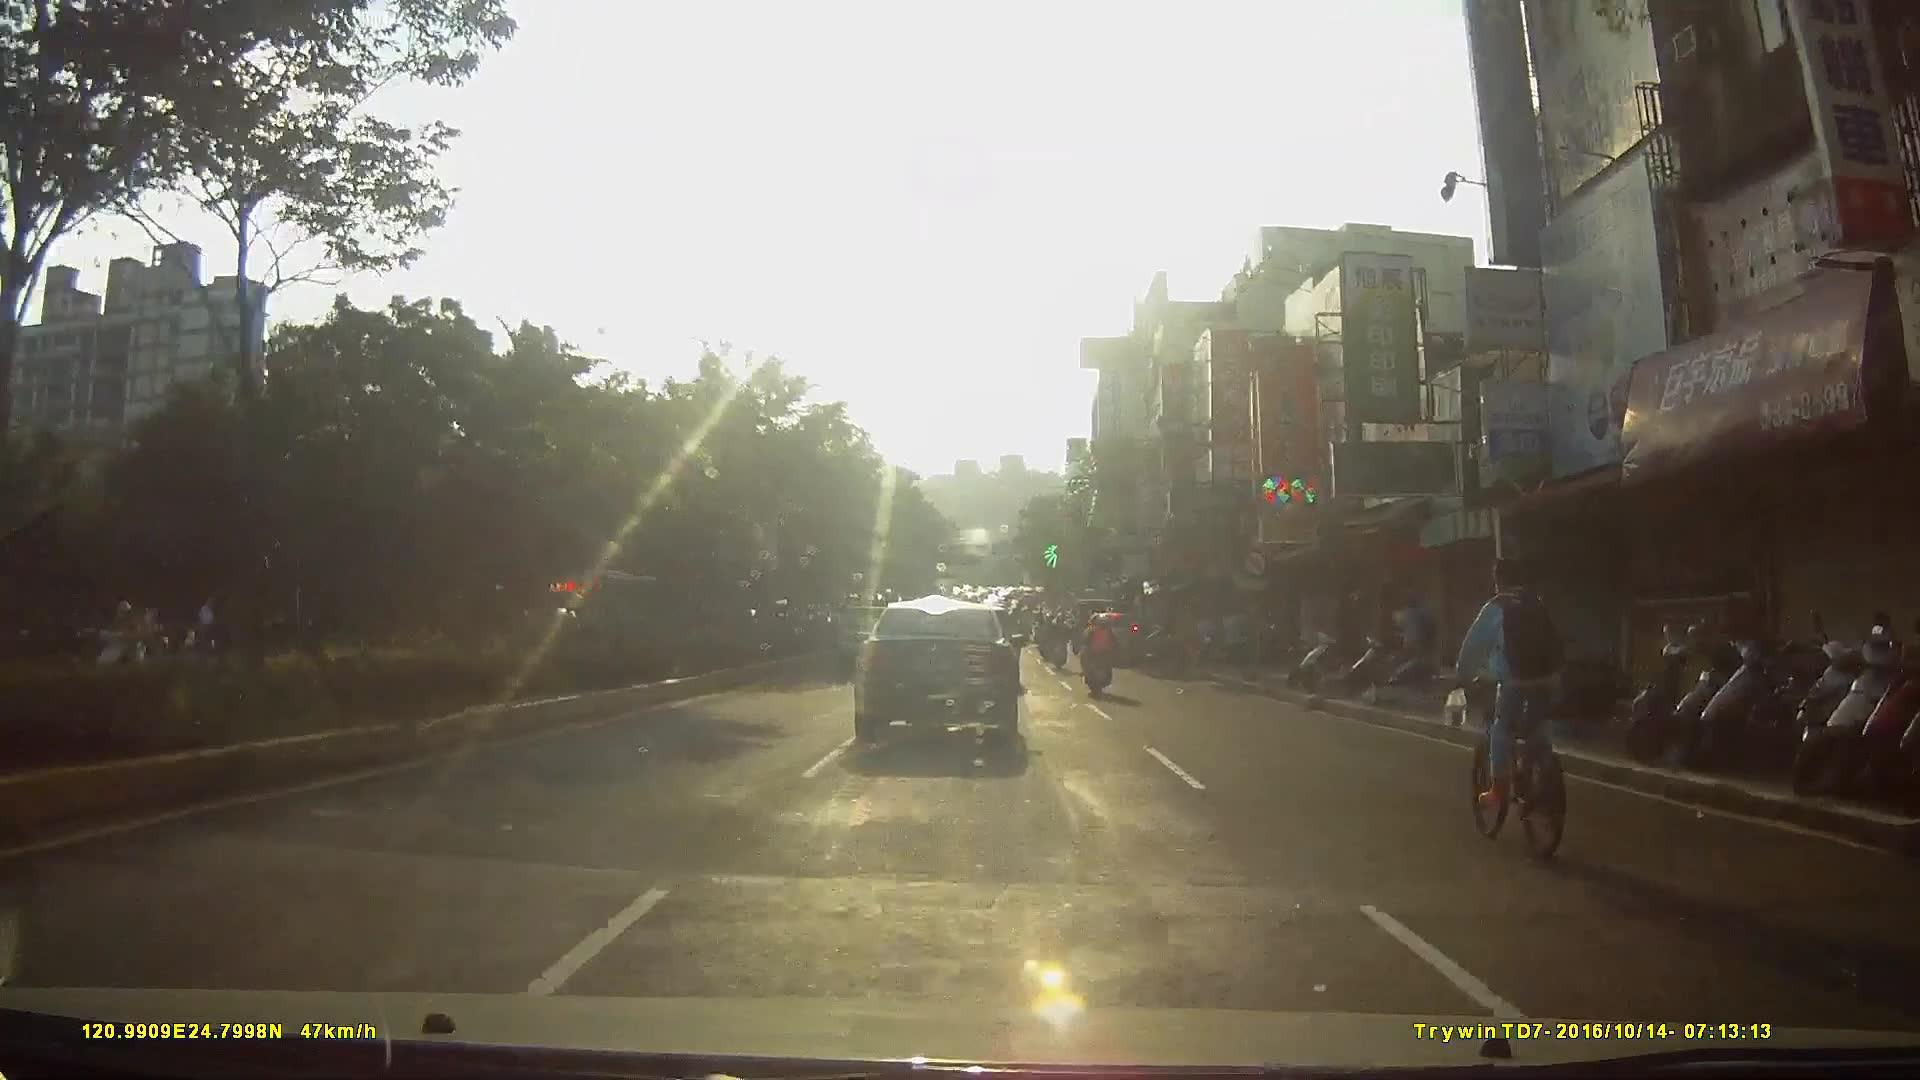rider: (1449, 563, 1570, 859), (91, 597, 153, 697), (1077, 619, 1118, 711), (1044, 618, 1072, 677)
vehicle: (849, 598, 1036, 767), (1082, 610, 1151, 671)
